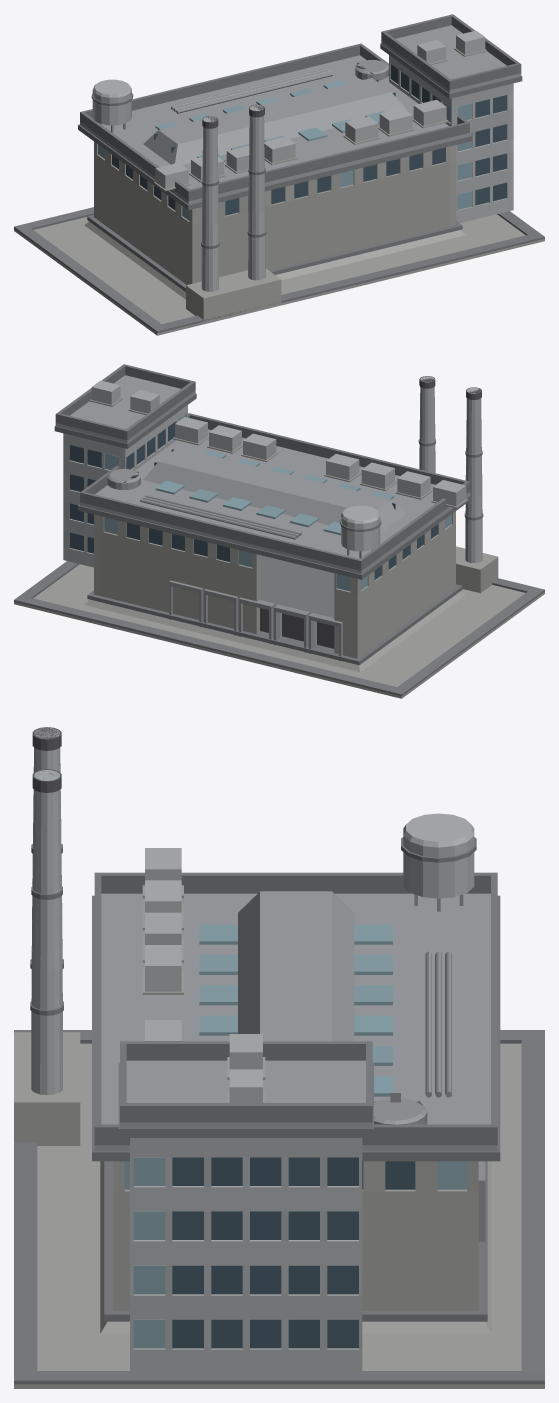
Rendered from western_factory.glb.
3 renders of one model, top to bottom at view 1: azimuth 30°, elevation 25°; view 2: azimuth 150°, elevation 25°; view 3: azimuth 270°, elevation 25°, orthographic. The views are drawn at different scales.
Parts seen in each view (by area): view 1: hall_wall, apron, hall_deck, mon_monitor, hall_parapet, office_wall, apron_rim, stack_base, office_glass, flue_r, barrel, office_parapet (+13 smaller); view 2: hall_wall, apron, hall_deck, mon_monitor, hall_parapet, plinth_cap, apron_rim, office_wall, hall_bays, hall_plant, office_parapet, barrel (+14 smaller); view 3: hall_deck, office_wall, apron, office_glass, apron_rim, hall_wall, mon_monitor, hall_parapet, office_deck, office_parapet, flue_r, skylights_skylights (+13 smaller).
Boxes of the visible parts, box(x1,y1,x2,y2) form: hall_wall: box(94, 141, 455, 284); apron: box(14, 214, 544, 335); hall_deck: box(80, 55, 469, 204); mon_monitor: box(143, 78, 406, 164); hall_parapet: box(80, 43, 469, 201); office_wall: box(389, 55, 513, 223); apron_rim: box(14, 207, 544, 333); stack_base: box(186, 268, 281, 323); office_glass: box(390, 64, 506, 209); flue_r: box(247, 104, 266, 280); barrel: box(201, 116, 219, 291); office_parapet: box(381, 14, 521, 90); hall_wall: box(94, 511, 455, 658); apron: box(14, 564, 544, 698); hall_deck: box(80, 429, 469, 574); mon_monitor: box(143, 447, 406, 532); hall_parapet: box(80, 413, 469, 570); plinth_cap: box(87, 555, 462, 665); apron_rim: box(14, 561, 544, 696); office_wall: box(63, 405, 187, 567); hall_bays: box(169, 580, 342, 661); hall_plant: box(324, 454, 467, 508); office_parapet: box(55, 364, 195, 440); barrel: box(464, 387, 483, 562); hall_deck: box(94, 893, 497, 1151); office_wall: box(130, 1138, 362, 1373); apron: box(14, 1043, 544, 1388); office_glass: box(133, 1157, 358, 1348); apron_rim: box(14, 1030, 544, 1384); hall_wall: box(113, 1161, 478, 1310); mon_monitor: box(238, 891, 354, 1041); hall_parapet: box(94, 872, 497, 1145); office_deck: box(120, 1060, 372, 1128); office_parapet: box(120, 1041, 372, 1122); flue_r: box(30, 769, 63, 1095); skylights_skylights: box(199, 924, 392, 1096).
Bounding box in the file's own units: 50.7 × 24 × 32.
